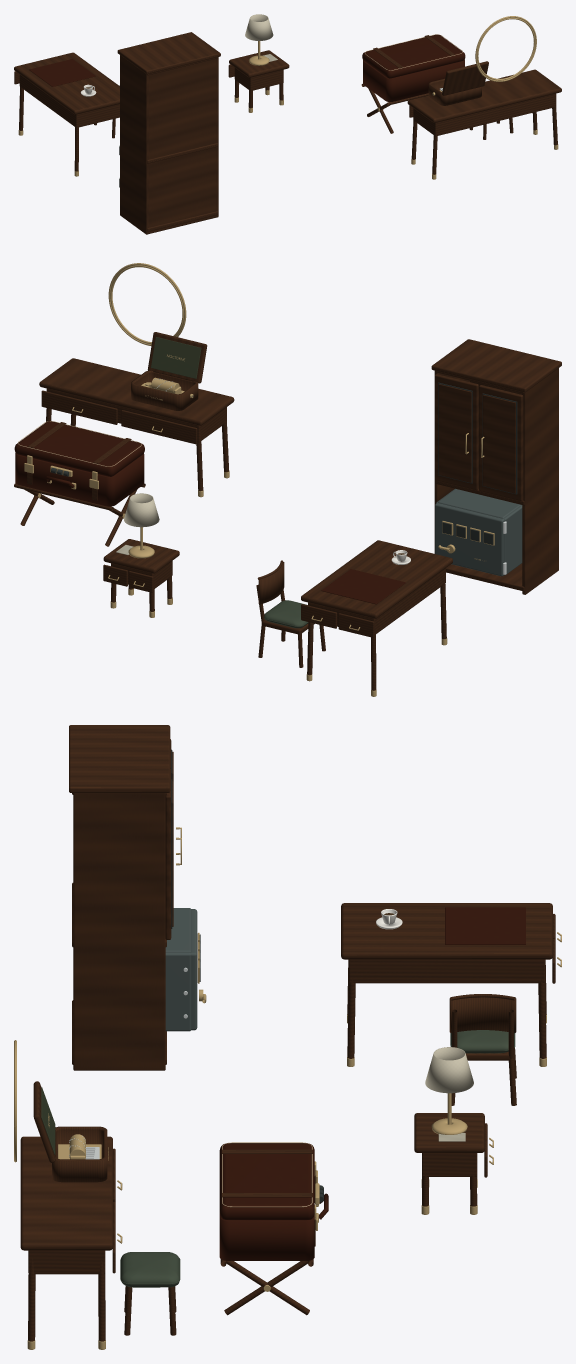
The model's file is guestroom-317.glb.
The picture shows the model from 3 angles, top to bottom: view 1: azimuth 30°, elevation 25°; view 2: azimuth 150°, elevation 25°; view 3: azimuth 270°, elevation 25°; orthographic projection. The views are drawn at different scales.
Visible parts, largest first — view 1: Crafted | Walnut | cut veneer.005, Crafted | Walnut | cut veneer.002, Crafted | Walnut | cut veneer, Luggage | arched leather lid, Crafted | Cognac | fine leather, Crafted | Walnut | cut veneer.004, Desk leather writing pad, Music box | raised lid, Crafted | Aged champagne brass.002, Music box | wooden case, Bedside lamp | open fabric shade, Crafted | Walnut | cut veneer.006; view 2: Crafted | Walnut | cut veneer.005, Crafted | Walnut | cut veneer.002, Crafted | Walnut | cut veneer, Luggage | arched leather lid, Crafted | Cognac | fine leather, Crafted | Safe | graphite powder coat.001, Crafted | Walnut | cut veneer.004, Crafted | Safe | graphite powder coat, Crafted | Walnut | cut veneer.001, Desk leather writing pad, Music box | wooden case, Music box | lid satin inset (+6 smaller); view 3: Crafted | Walnut | cut veneer.005, Crafted | Walnut | cut veneer, Crafted | Walnut | cut veneer.002, Luggage | arched leather lid, Crafted | Walnut | cut veneer.004, Crafted | Cognac | fine leather, Crafted | Walnut | cut veneer.001, Desk leather writing pad, Crafted | Safe | graphite powder coat, Music box | wooden case, Crafted | Sage | woven upholstery.001, Bedside lamp | open fabric shade (+5 smaller).
Part boxes in pixels (<box>): Crafted | Walnut | cut veneer.005: <box>117,32,220,234</box>; Crafted | Walnut | cut veneer.002: <box>407,69,561,174</box>; Crafted | Walnut | cut veneer: <box>14,52,119,171</box>; Luggage | arched leather lid: <box>362,34,465,78</box>; Crafted | Cognac | fine leather: <box>363,59,464,101</box>; Crafted | Walnut | cut veneer.004: <box>228,50,289,108</box>; Desk leather writing pad: <box>29,59,95,86</box>; Music box | raised lid: <box>442,61,488,95</box>; Crafted | Aged champagne brass.002: <box>248,16,536,111</box>; Music box | wooden case: <box>428,78,481,105</box>; Bedside lamp | open fabric shade: <box>245,14,273,40</box>; Crafted | Walnut | cut veneer.006: <box>361,84,428,133</box>; Crafted | Walnut | cut veneer.005: <box>431,339,561,594</box>; Crafted | Walnut | cut veneer.002: <box>39,358,234,491</box>; Crafted | Walnut | cut veneer: <box>301,540,452,690</box>; Luggage | arched leather lid: <box>14,421,144,476</box>; Crafted | Cognac | fine leather: <box>15,453,144,506</box>; Crafted | Safe | graphite powder coat.001: <box>435,502,504,576</box>; Crafted | Walnut | cut veneer.004: <box>103,539,179,611</box>; Crafted | Safe | graphite powder coat: <box>436,488,522,575</box>; Crafted | Walnut | cut veneer.001: <box>256,560,325,667</box>; Desk leather writing pad: <box>321,569,405,604</box>; Music box | wooden case: <box>131,370,198,410</box>; Music box | lid satin inset: <box>151,337,201,378</box>; Crafted | Walnut | cut veneer.005: <box>69,725,173,1070</box>; Crafted | Walnut | cut veneer: <box>341,903,555,1058</box>; Crafted | Walnut | cut veneer.002: <box>20,1136,115,1341</box>; Luggage | arched leather lid: <box>219,1143,314,1219</box>; Crafted | Walnut | cut veneer.004: <box>414,1113,487,1206</box>; Crafted | Cognac | fine leather: <box>219,1193,328,1260</box>; Crafted | Walnut | cut veneer.001: <box>449,994,516,1105</box>; Desk leather writing pad: <box>445,907,525,944</box>; Crafted | Safe | graphite powder coat: <box>165,908,191,1031</box>; Music box | wooden case: <box>52,1126,107,1182</box>; Crafted | Sage | woven upholstery.001: <box>120,1252,180,1287</box>; Bedside lamp | open fabric shade: <box>425,1047,473,1093</box>.
Bounding box in the file's own units: 6.24 × 2.48 × 4.27.
Materials: 14 (6 with a texture image).
